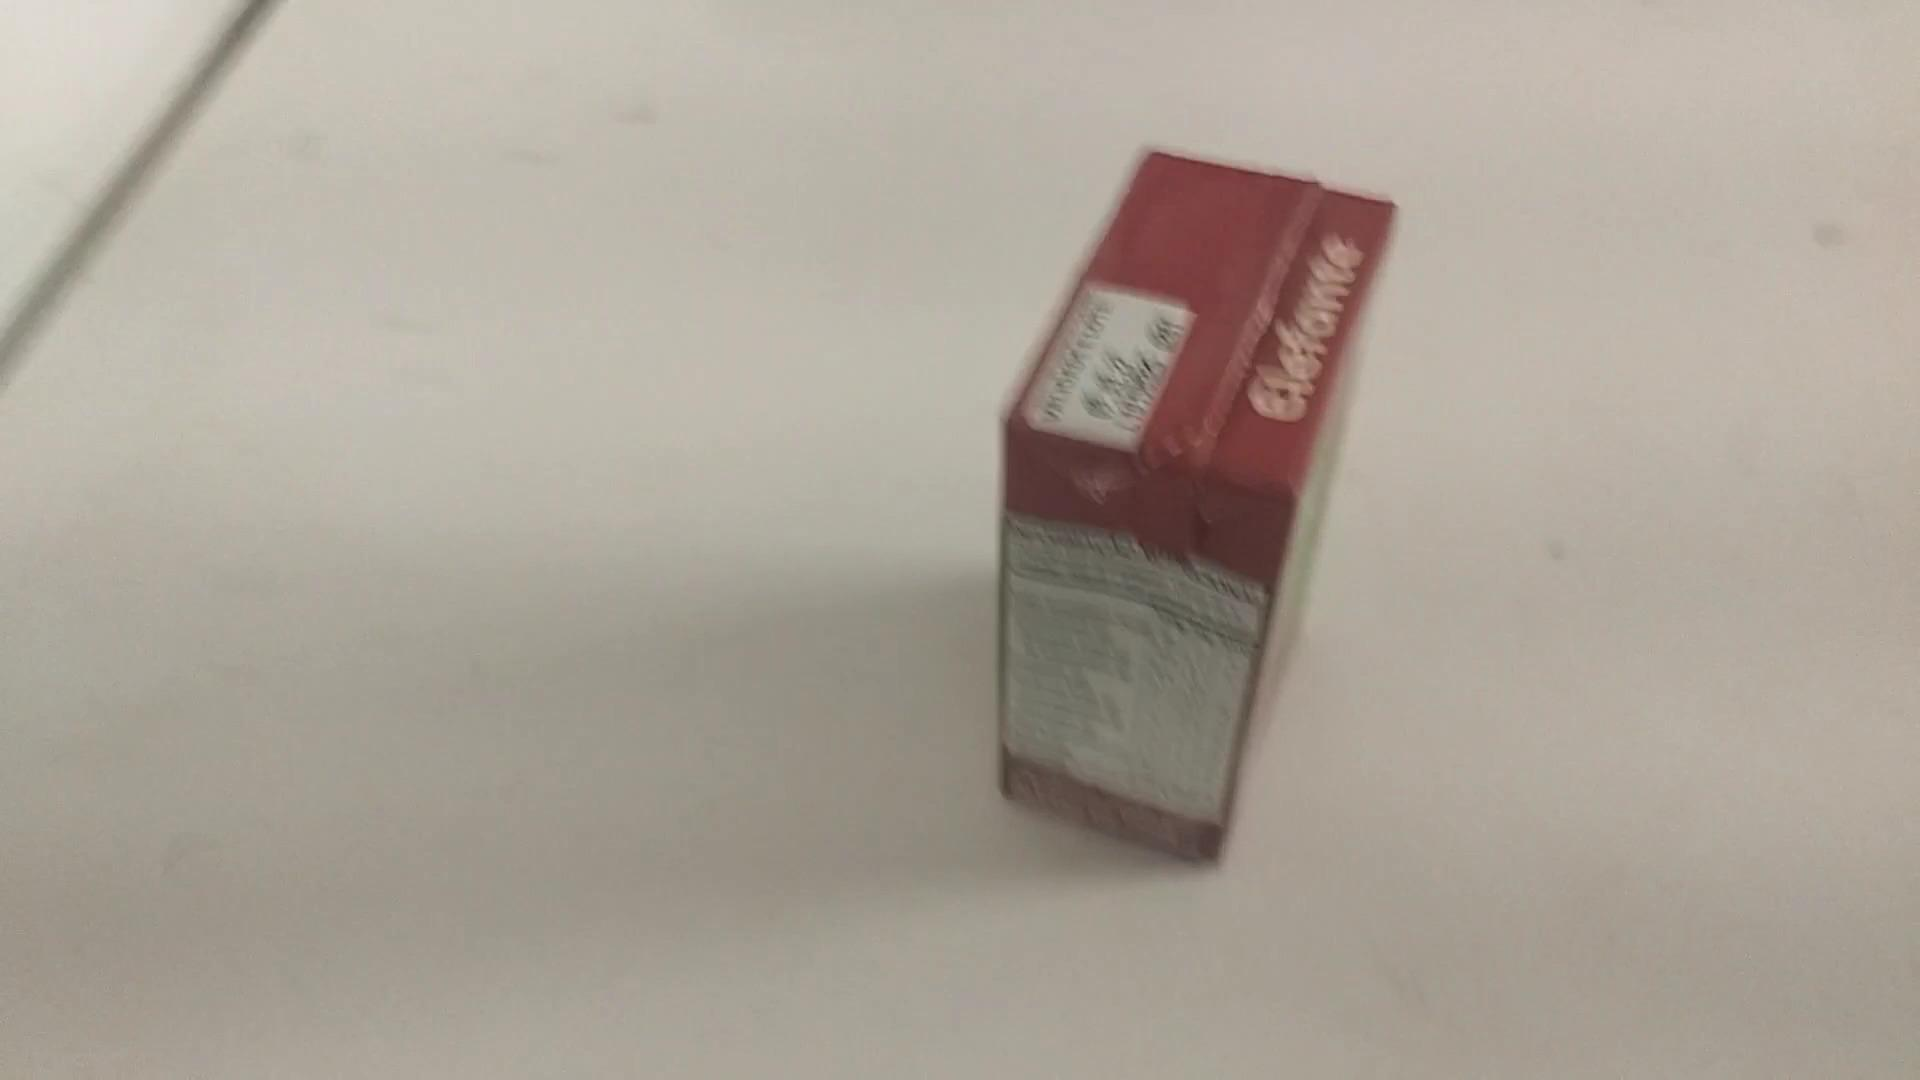tomate: (989, 140, 1406, 882)
